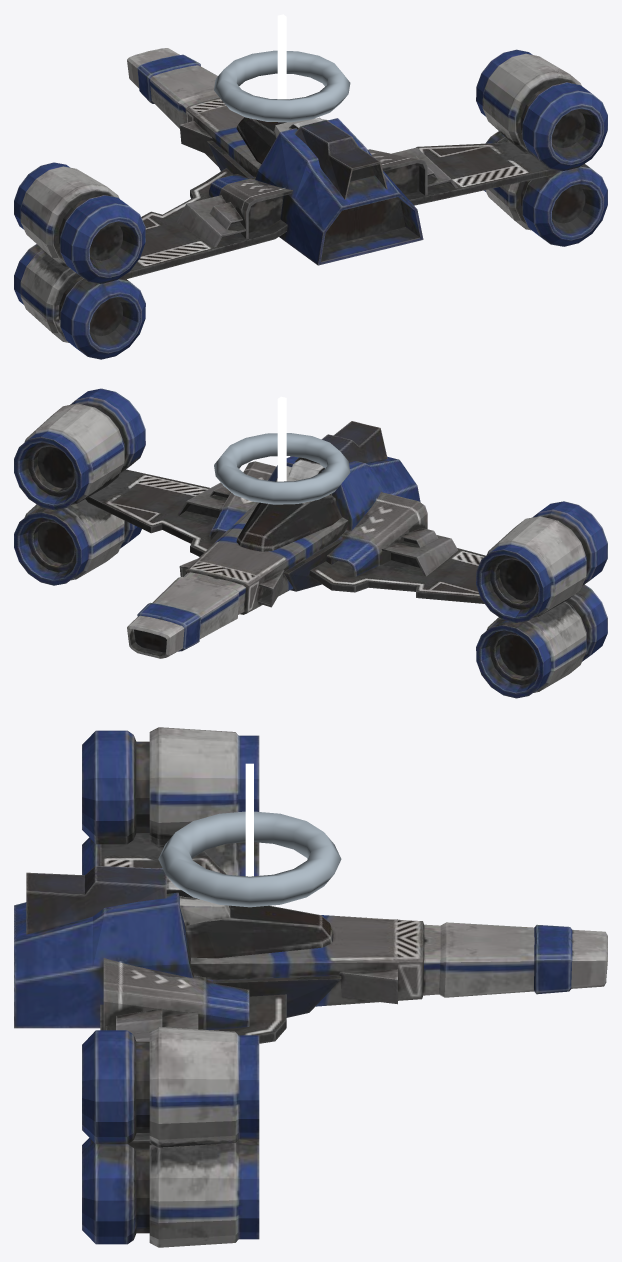
File: player_eclaireur.glb
3 renders of one model, top to bottom at view 1: azimuth 30°, elevation 25°; view 2: azimuth 150°, elevation 25°; view 3: azimuth 270°, elevation 25°, orthographic. The views are drawn at different scales.
Parts seen in each view (by area): view 1: player_eclaireur; view 2: player_eclaireur; view 3: player_eclaireur.
Boxes of the visible parts, x1,y1,x2,y2 form: player_eclaireur: (14,14,607,359); player_eclaireur: (14,388,607,698); player_eclaireur: (14,727,607,1247).
Size of the model in its own units: 1.77 by 0.7664 by 1.26.
Materials: 3 (1 with a texture image).
